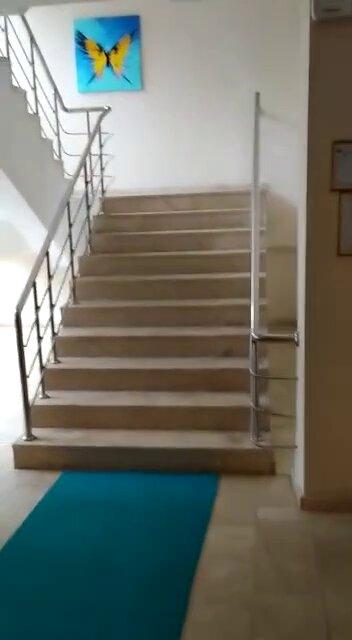Bench: (64, 129, 265, 469)
